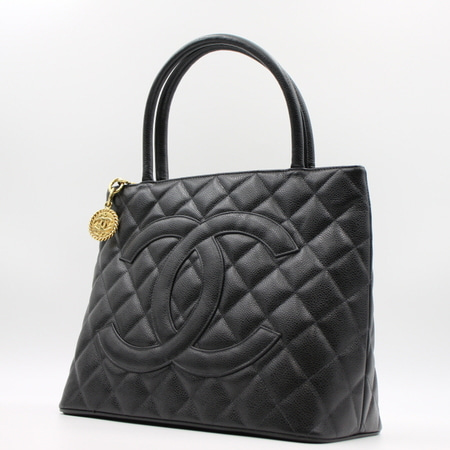channel: (77, 163, 395, 450), (122, 219, 301, 366)
